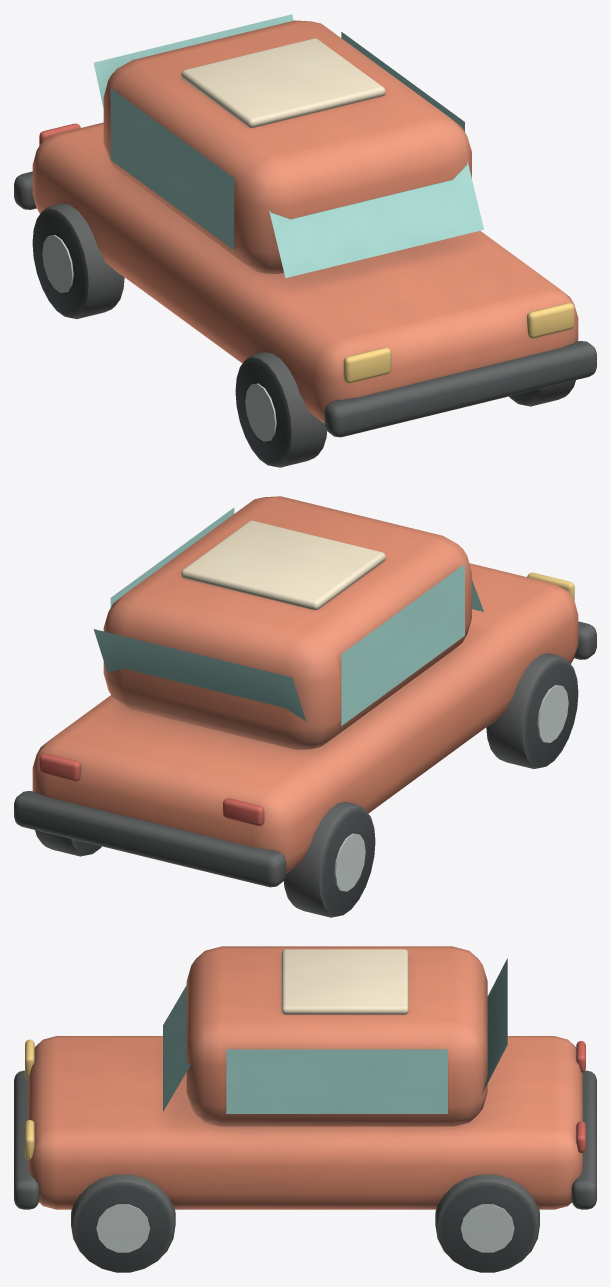
Rendered from TrafficCarRed.fbx.
3 views of the same model, one above another, from view 1: azimuth 30°, elevation 25°; view 2: azimuth 150°, elevation 25°; view 3: azimuth 270°, elevation 25° (orthographic). The views are drawn at different scales.
Visible parts, largest first — view 1: TrafficCarRed; view 2: TrafficCarRed; view 3: TrafficCarRed.
Part boxes in pixels (x1,y1,x2,y2): TrafficCarRed: (14,14,596,467); TrafficCarRed: (14,496,596,917); TrafficCarRed: (14,946,596,1272).
Bounding box in the file's own units: 192 × 163 × 368.
